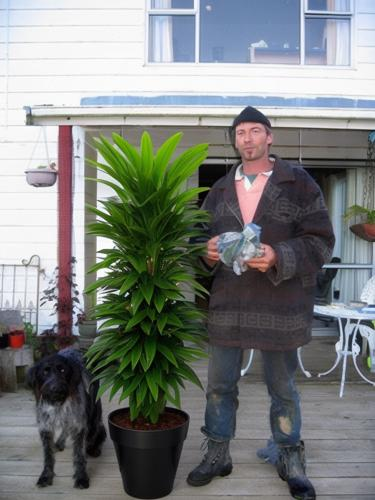dog: (30, 351, 113, 491)
person: (183, 105, 336, 498)
person/foot: (179, 458, 233, 489), (277, 458, 316, 500)
person/hand: (245, 243, 278, 273), (204, 237, 221, 261)
person/head: (234, 106, 274, 160)
pottedplant: (84, 132, 209, 499)
